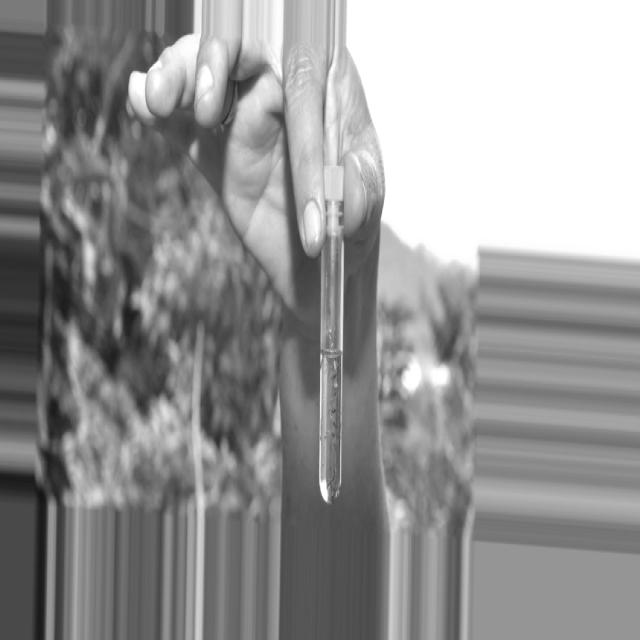larvas: (329, 407, 337, 426), (332, 363, 338, 387), (327, 474, 336, 488), (329, 390, 338, 401), (327, 430, 335, 438)
